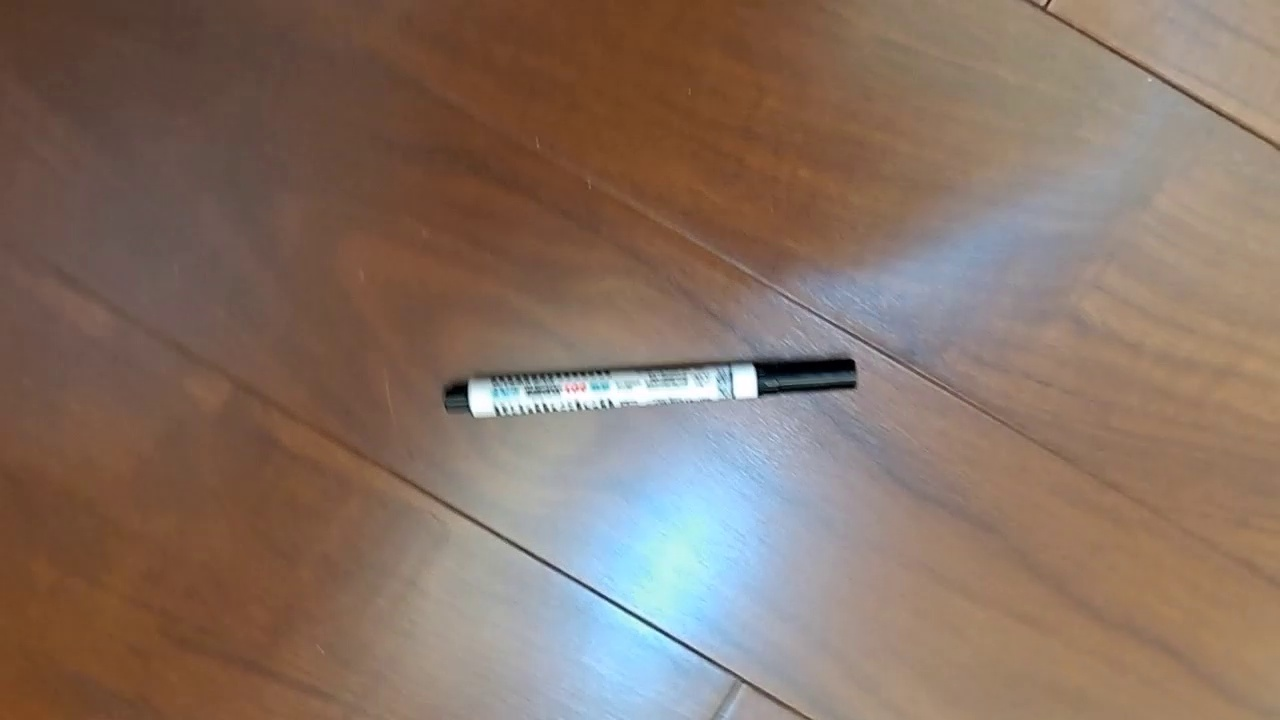pen: (441, 356, 858, 420)
